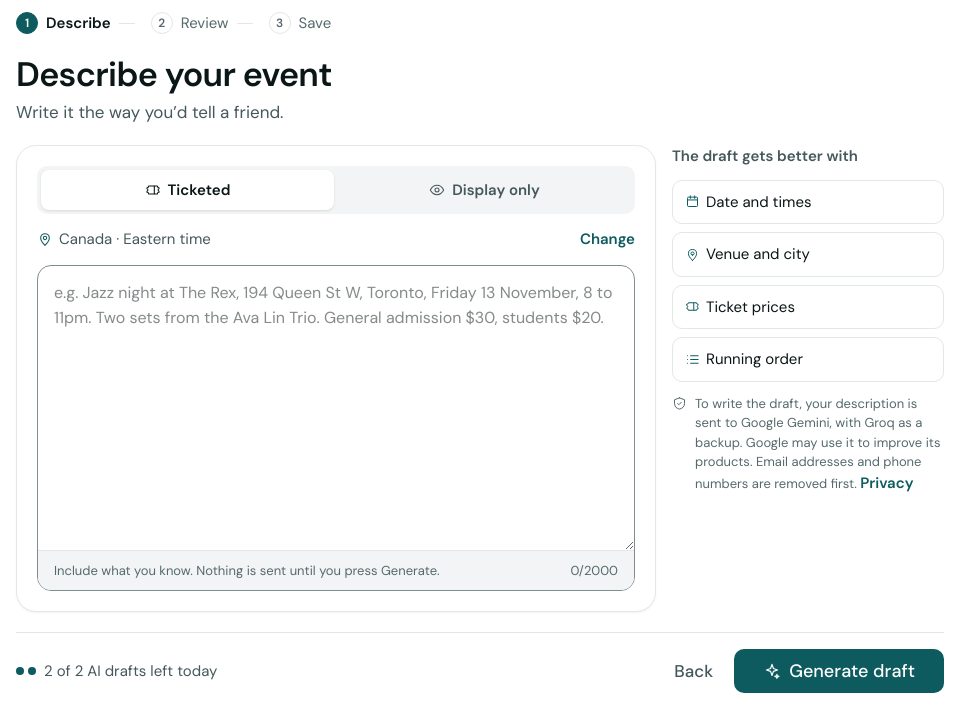
describe › Generate waits for enough to work from, and says why
In the text box named "About your event": (336, 408) [38, 266, 634, 550], type "Gala on Saturday"
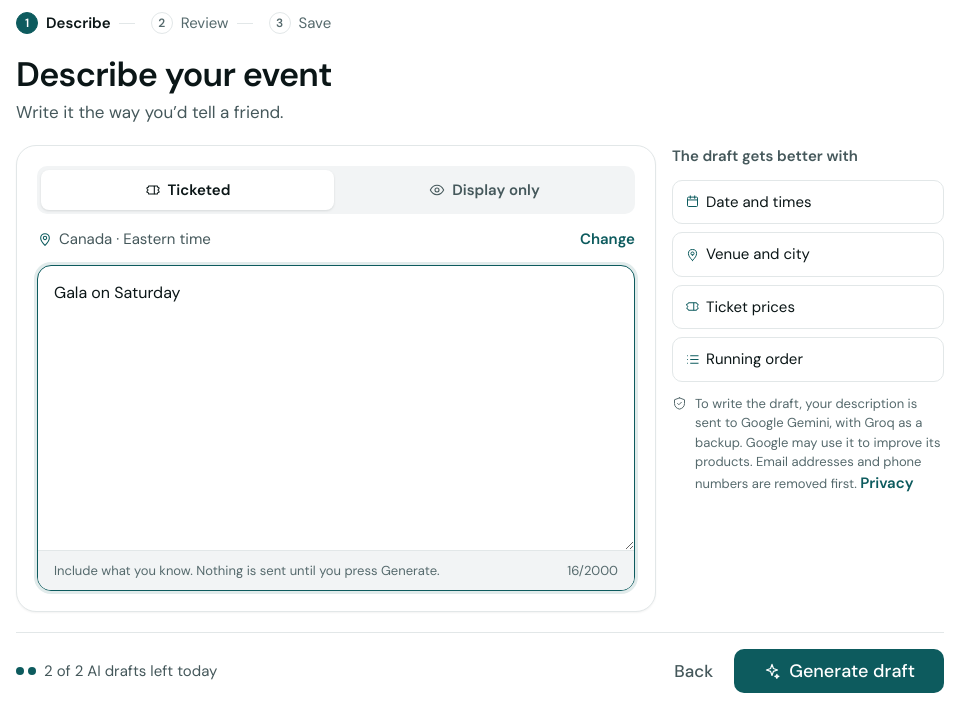
Click the button "Generate draft": (839, 671) [734, 649, 944, 693]
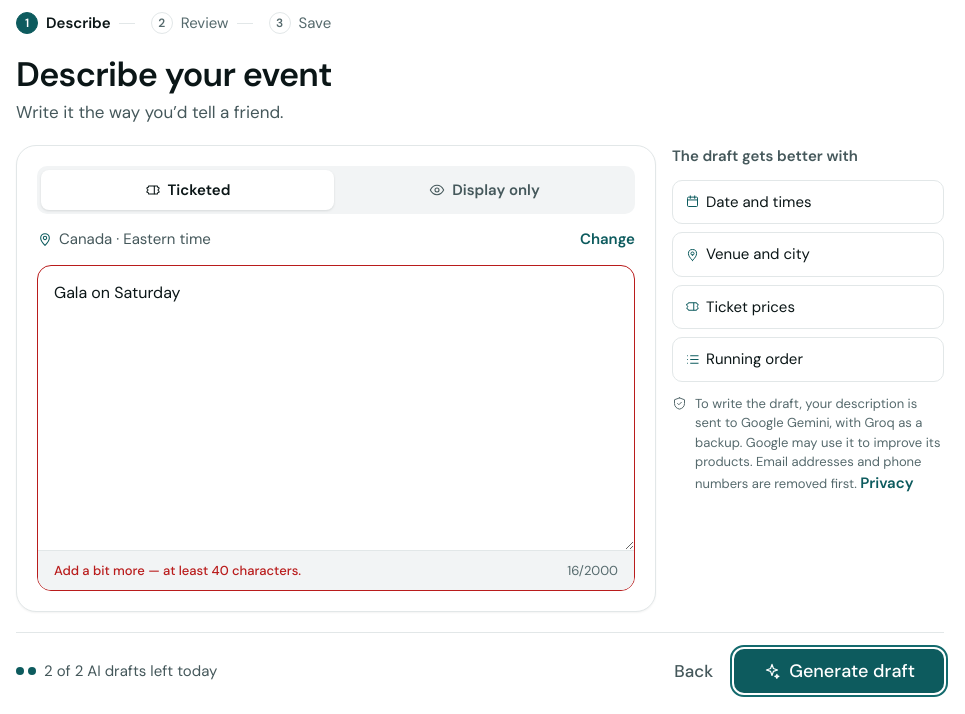
Result: the text "Add a bit more — at least 40 characters." is shown at [54, 560, 301, 580]
